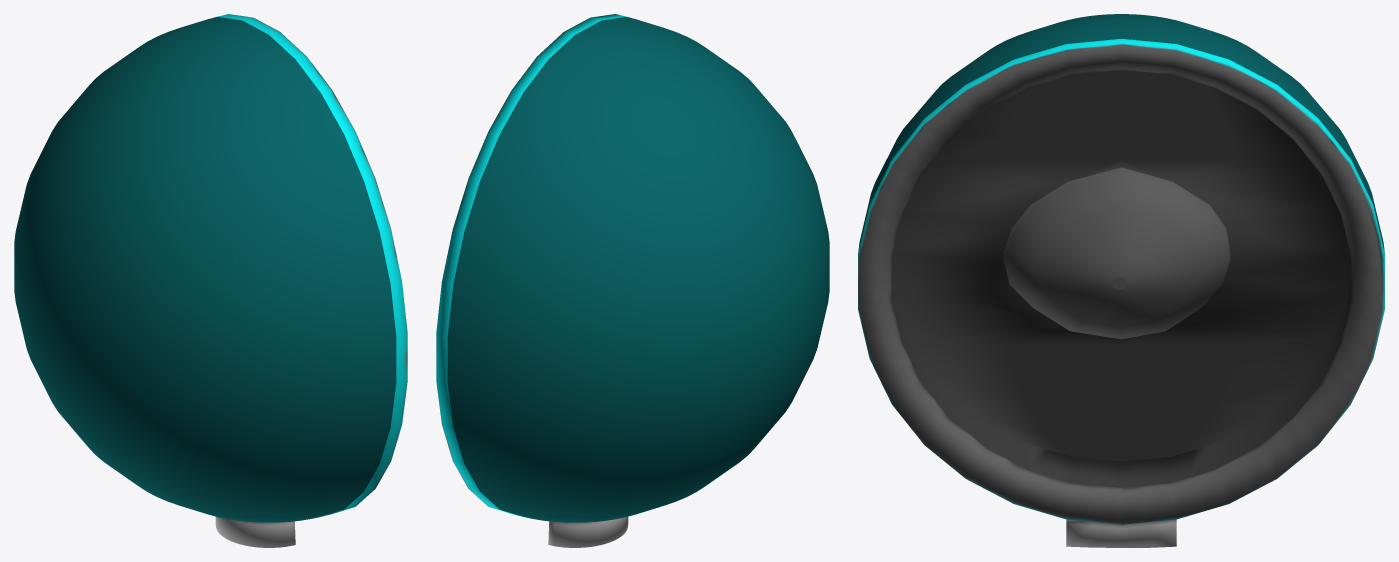
Rendered from altavoz.FBX.
The picture shows the model from 3 angles, left to right: view 1: azimuth 30°, elevation 25°; view 2: azimuth 150°, elevation 25°; view 3: azimuth 270°, elevation 25°; orthographic projection. The views are drawn at different scales.
Visible parts, largest first — view 1: Sphere001; view 2: Sphere001; view 3: Sphere001.
Part boxes in pixels (x1=…): Sphere001: x1=14, y1=14, x2=407, y2=547; Sphere001: x1=436, y1=14, x2=829, y2=547; Sphere001: x1=858, y1=14, x2=1384, y2=547.
Bounding box in the file's own units: 12.31 × 24.95 × 23.4.
